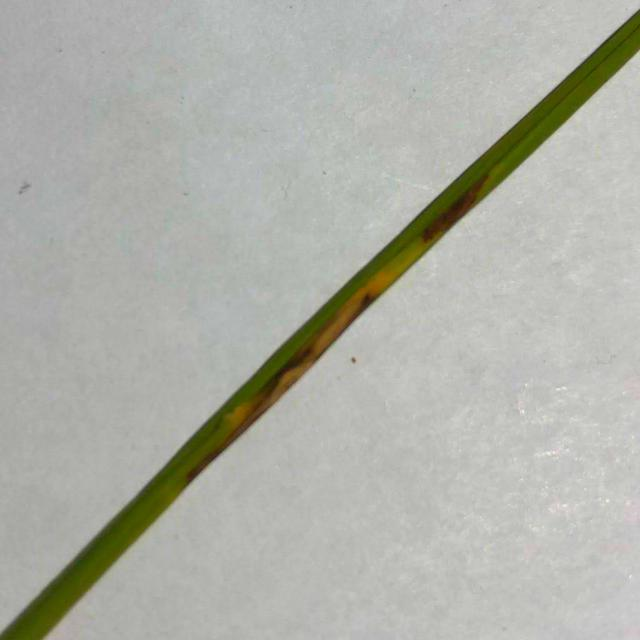Blast: (232, 393, 270, 424), (276, 351, 306, 385), (342, 288, 375, 316), (308, 320, 339, 343), (184, 450, 203, 474)
